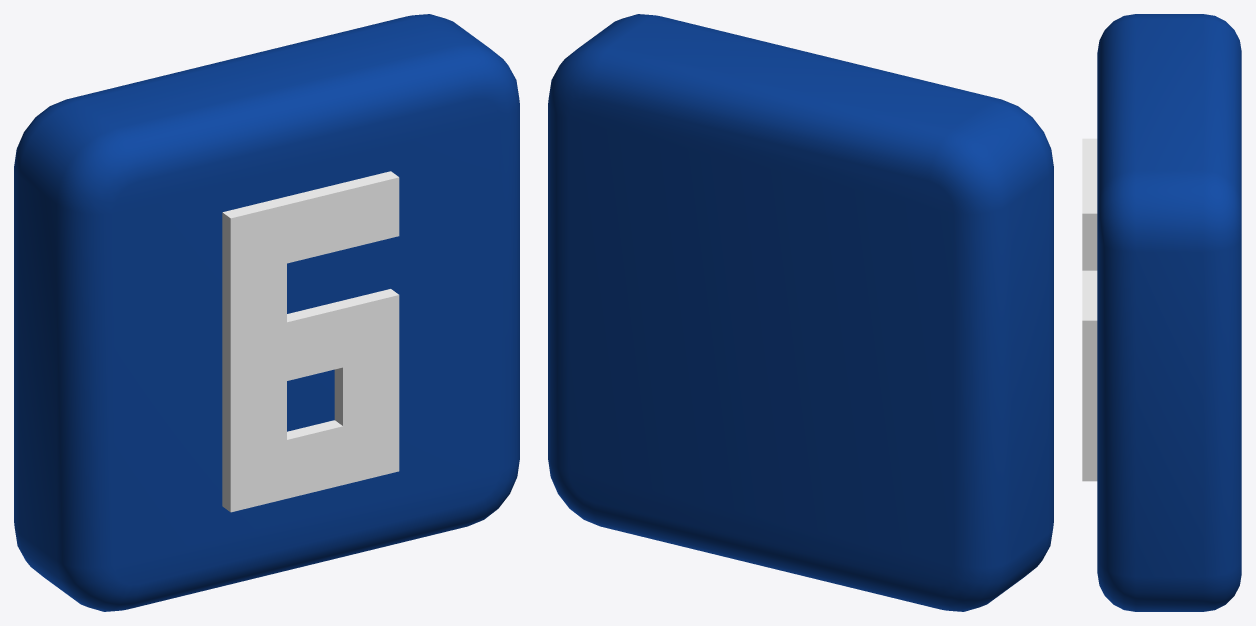
Rendered from keycap_6.glb.
3 views of the same model, side by side, from view 1: azimuth 30°, elevation 25°; view 2: azimuth 150°, elevation 25°; view 3: azimuth 270°, elevation 25° (orthographic). The views are drawn at different scales.
Visible parts, largest first — view 1: Cube.6584; view 2: Cube.6584; view 3: Cube.6584.
Boxes of the visible parts, box(x1,y1,x2,y2) form: Cube.6584: box(14, 14, 519, 611); Cube.6584: box(548, 14, 1053, 611); Cube.6584: box(1082, 14, 1241, 611).
Size of the model in its own units: 2.2 by 2.2 by 0.73.
1 material, 1 textured.
